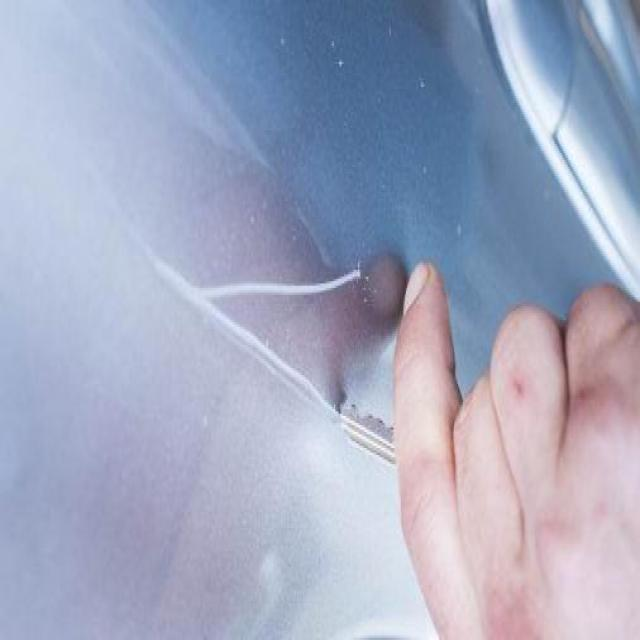scratch: (193, 259, 374, 310)
